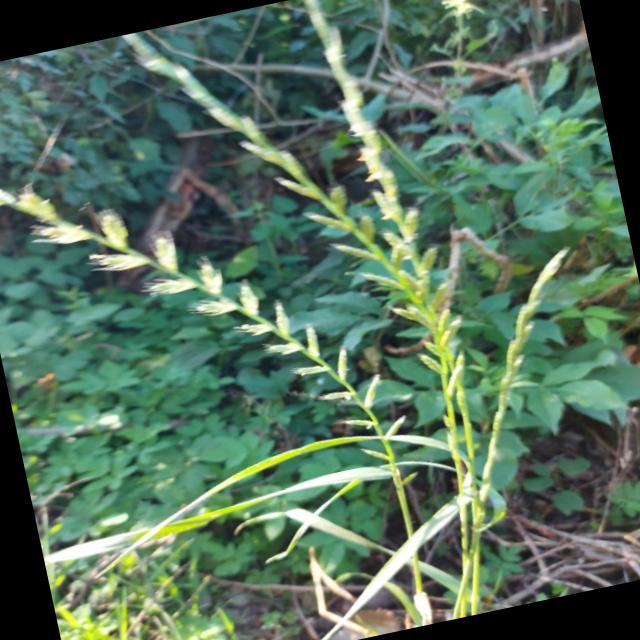Lolium: (0, 101, 440, 640), (135, 0, 501, 640), (295, 0, 533, 624)
